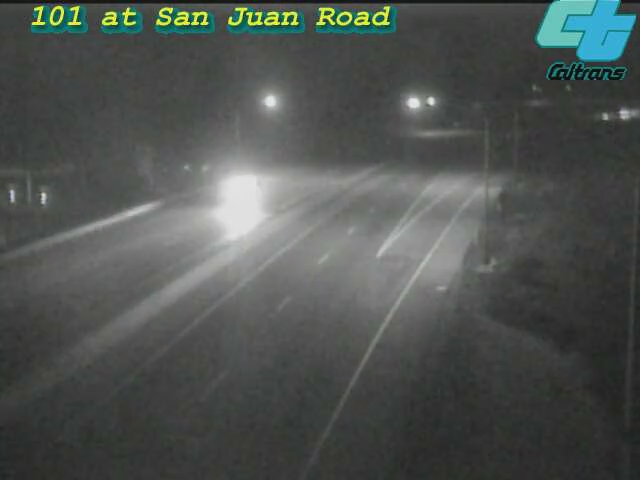vehicle: (200, 159, 280, 239), (602, 89, 640, 139)
